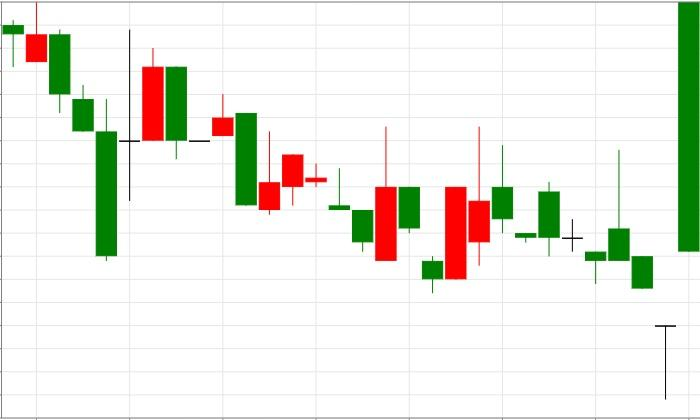bullish_engulfing_rise: (282, 126, 397, 262)
three_black_crows_fall: (2, 2, 118, 261)
